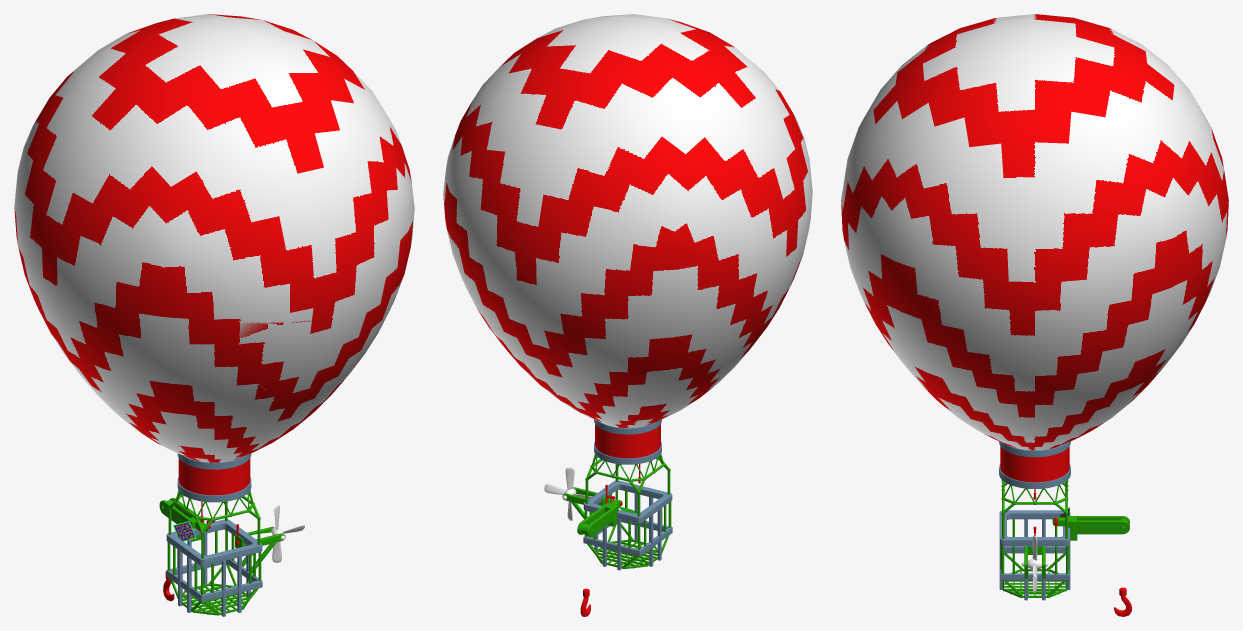
The model's file is Balloon1.glb.
The picture shows the model from 3 angles, left to right: view 1: azimuth 30°, elevation 25°; view 2: azimuth 150°, elevation 25°; view 3: azimuth 270°, elevation 25°; orthographic projection. The views are drawn at different scales.
Parts seen in each view (by area): view 1: Balloon, Winch, Prop, PropBase; view 2: Balloon, Winch, Prop; view 3: Balloon, Winch.
Part boxes in pixels (box(x1,y1,x2,y2)): Balloon: box(14, 14, 414, 616); Winch: box(159, 498, 208, 541); Prop: box(251, 504, 304, 562); PropBase: box(235, 526, 285, 573); Balloon: box(443, 14, 812, 570); Winch: box(577, 499, 622, 537); Prop: box(544, 467, 592, 520); Balloon: box(841, 14, 1228, 600); Winch: box(1052, 516, 1129, 540).
Size of the model in its own units: 5.51 by 9.15 by 5.51.
2 materials, 2 textured.
